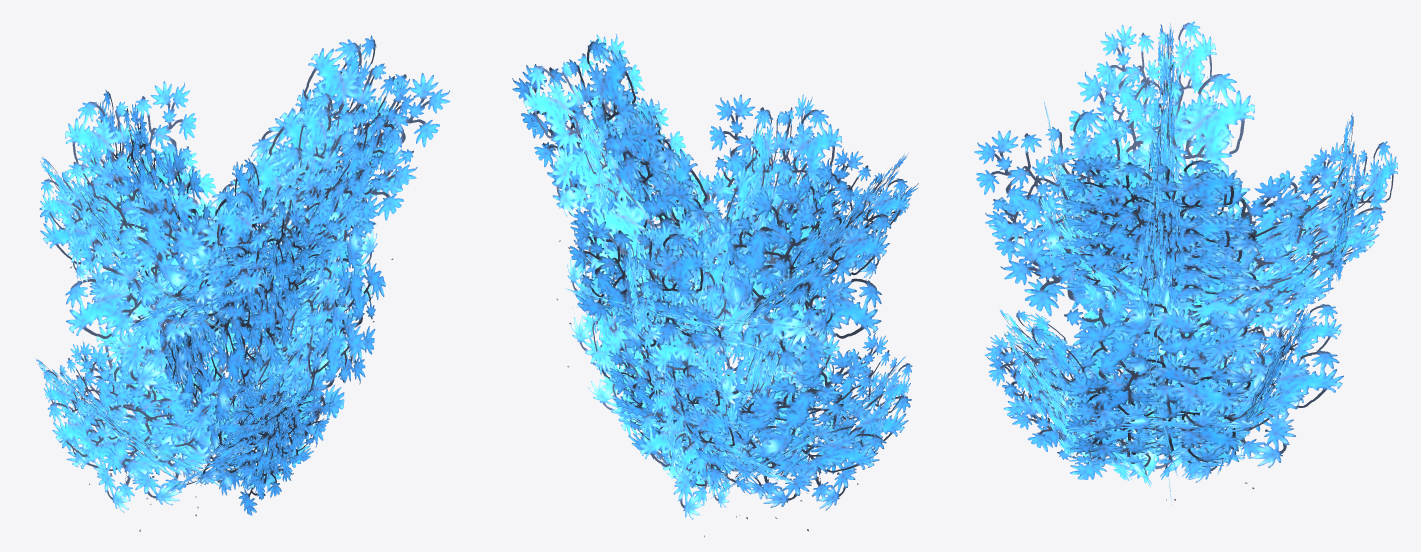
The model's file is Arvore3-Folhas.fbx.
3 views of the same model, side by side, from view 1: azimuth 30°, elevation 25°; view 2: azimuth 150°, elevation 25°; view 3: azimuth 270°, elevation 25° (orthographic). The views are drawn at different scales.
Visible parts, largest first — view 1: LOD_0; view 2: LOD_0; view 3: LOD_0.
Part boxes in pixels (bbox=[...]): LOD_0: bbox=[36, 35, 450, 531]; LOD_0: bbox=[512, 34, 918, 537]; LOD_0: bbox=[974, 21, 1397, 504].
Size of what is drawn, in the model's own units: 818 by 840 by 679.
